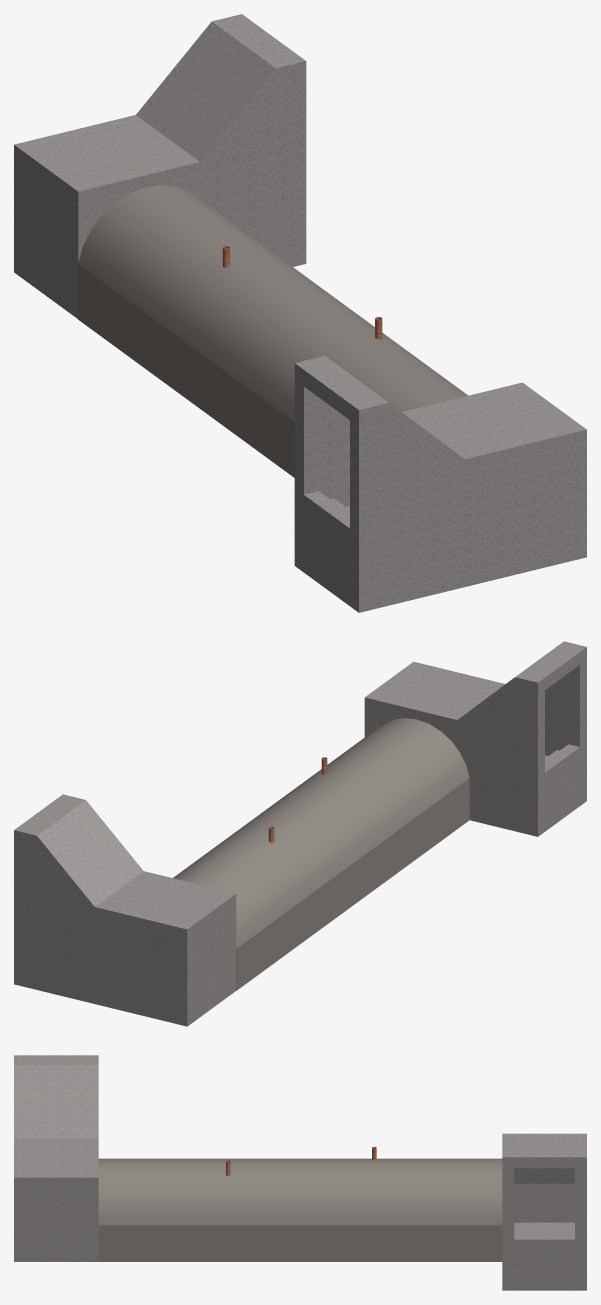
File: air-raid-bunker.zfix-v14.lod1.glb
3 views of the same model, one above another, from view 1: azimuth 30°, elevation 25°; view 2: azimuth 150°, elevation 25°; view 3: azimuth 270°, elevation 25° (orthographic). The views are drawn at different scales.
Visible parts, largest first — view 1: Object_6, Object_2; view 2: Object_6, Object_2; view 3: Object_2, Object_6.
Boxes of the visible parts, box(x1,y1,x2,y2) form: Object_6: box(14, 14, 586, 612); Object_2: box(78, 185, 467, 477); Object_6: box(14, 641, 586, 1026); Object_2: box(173, 718, 469, 990); Object_2: box(98, 1158, 502, 1261); Object_6: box(14, 1055, 586, 1290).
Bounding box in the file's own units: 5.99 × 3.66 × 14.2.
3 materials, 2 textured.
